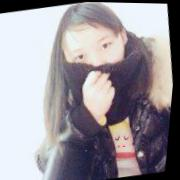WRONG: (63, 29, 132, 97)
